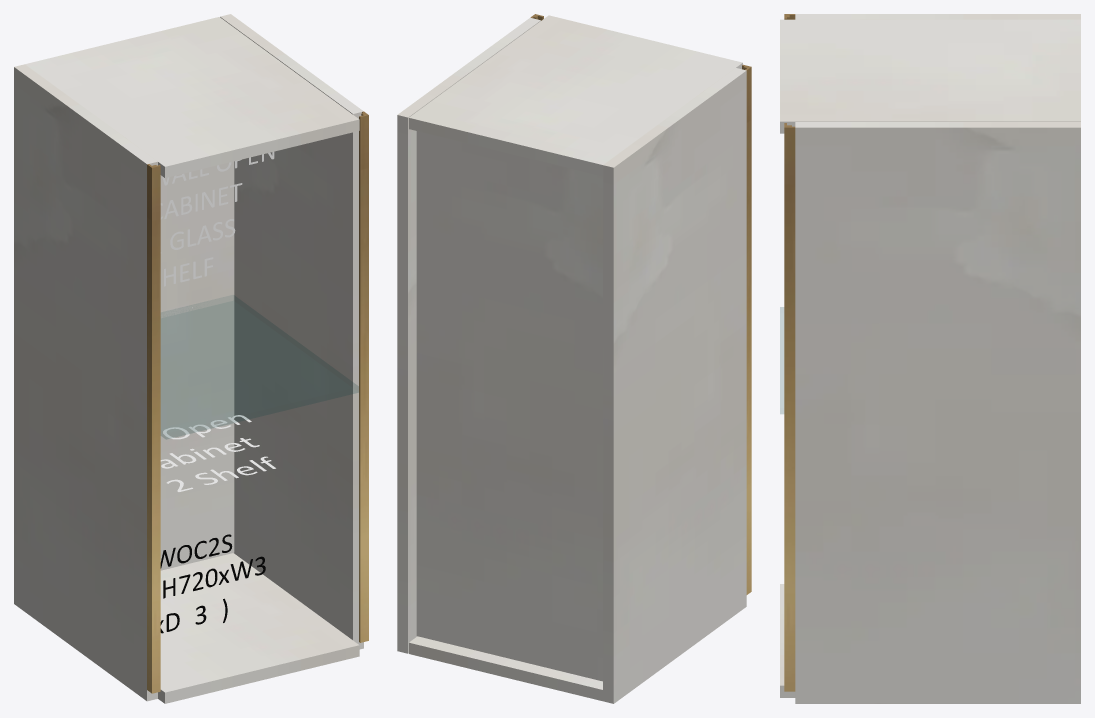
Rendered from WOC1SV_ (H710XW300XD336).glb.
3 renders of one model, left to right at view 1: azimuth 30°, elevation 25°; view 2: azimuth 150°, elevation 25°; view 3: azimuth 270°, elevation 25°, orthographic. The views are drawn at different scales.
Size of what is drawn, in the model's own units: 0.3 by 0.71 by 0.336.
6 materials, 2 textured.
